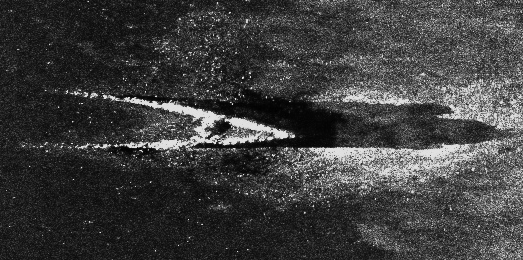ship: (52, 87, 301, 154)
